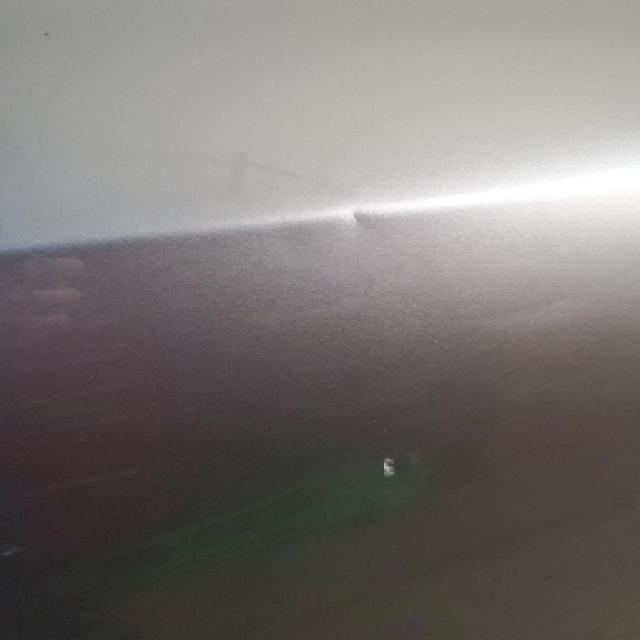dents: (449, 283, 612, 360), (335, 191, 396, 262), (363, 426, 430, 489)
